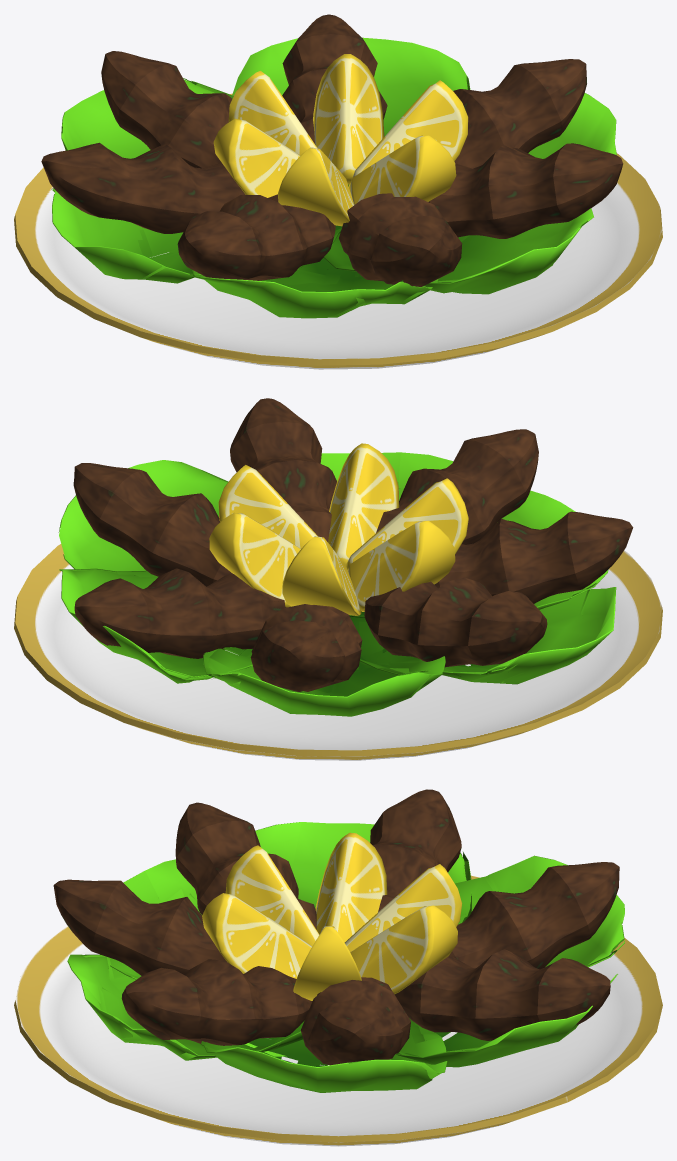
File: TabaklıLimonMarulCigkofte.fbx
The picture shows the model from 3 angles, top to bottom: view 1: azimuth 30°, elevation 25°; view 2: azimuth 150°, elevation 25°; view 3: azimuth 270°, elevation 25°; orthographic projection.
Visible parts, largest first — view 1: TabaklıÇiğköfteMarulLimon; view 2: TabaklıÇiğköfteMarulLimon; view 3: TabaklıÇiğköfteMarulLimon.
Boxes of the visible parts, bbox=[...] form: TabaklıÇiğköfteMarulLimon: bbox=[14, 14, 662, 369]; TabaklıÇiğköfteMarulLimon: bbox=[14, 398, 662, 760]; TabaklıÇiğköfteMarulLimon: bbox=[14, 789, 662, 1146].
Bounding box in the file's own units: 0.8717 × 0.2135 × 0.8717.
